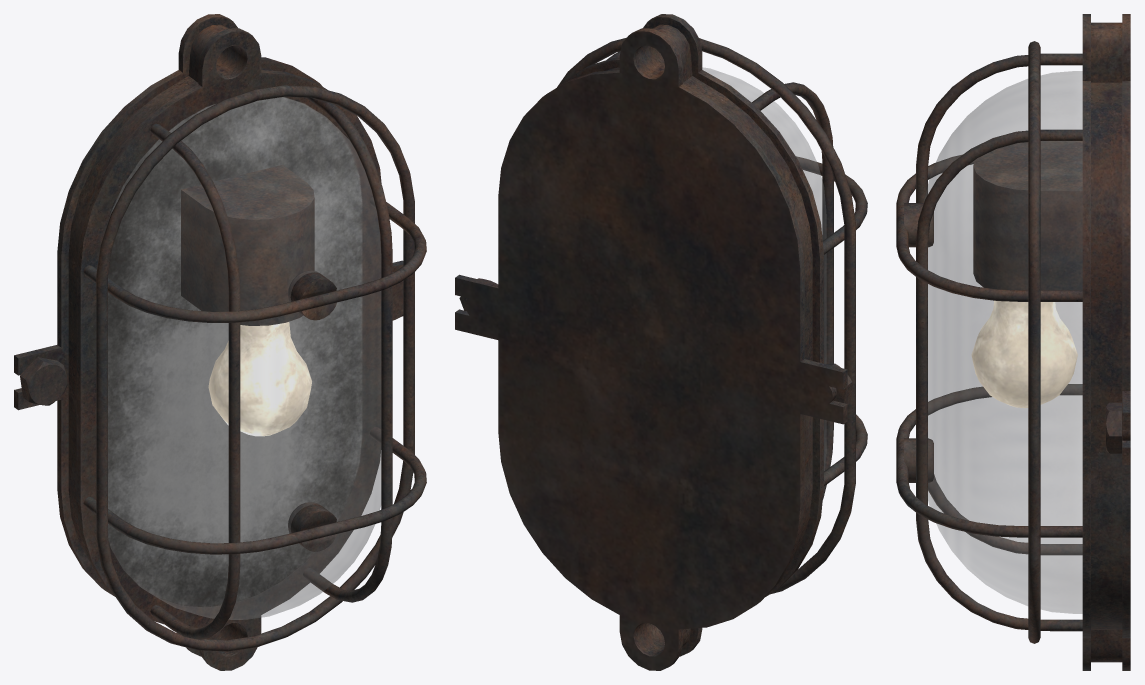
The model's file is industrial_wall_lamp.glb.
3 views of the same model, side by side, from view 1: azimuth 30°, elevation 25°; view 2: azimuth 150°, elevation 25°; view 3: azimuth 270°, elevation 25° (orthographic).
Parts seen in each view (by area): view 1: industrial_wall_lamp; view 2: industrial_wall_lamp; view 3: industrial_wall_lamp.
Boxes of the visible parts, box(x1,y1,x2,y2) form: industrial_wall_lamp: box(14, 14, 426, 670); industrial_wall_lamp: box(455, 14, 867, 670); industrial_wall_lamp: box(896, 14, 1130, 670).
Bounding box in the file's own units: 0.2734 × 0.4299 × 0.1404.
Materials: 2 (2 with a texture image).
